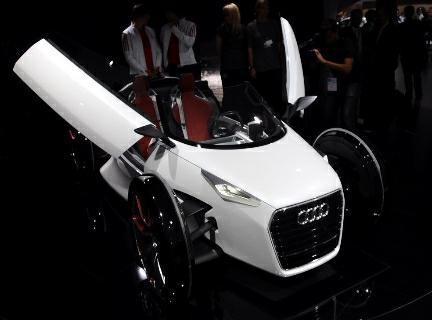奥迪-Urban: (41, 17, 399, 306)
